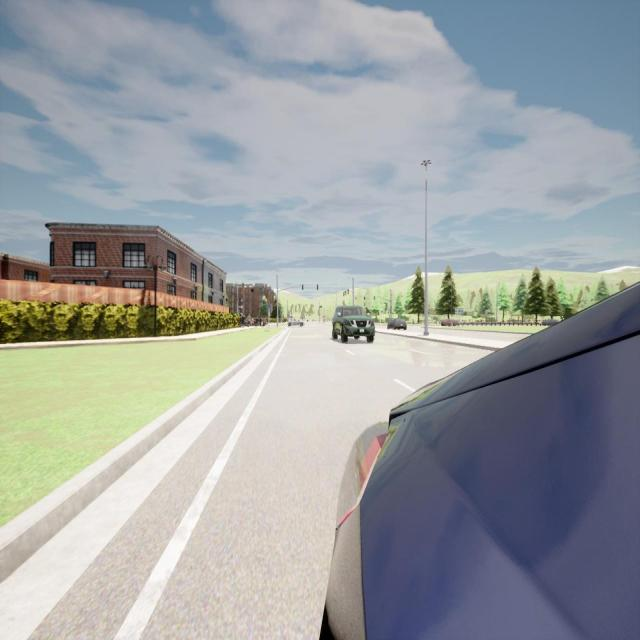Traffic_Signs: (266, 304, 273, 313)
Vehicle: (326, 283, 640, 638), (331, 306, 375, 343), (387, 318, 408, 330), (288, 318, 304, 328), (441, 318, 458, 327)
traffic_light: (389, 300, 392, 305), (302, 284, 304, 290), (316, 285, 318, 290), (347, 289, 349, 294), (343, 292, 344, 297), (364, 296, 365, 300), (374, 296, 375, 300), (345, 291, 346, 295)
